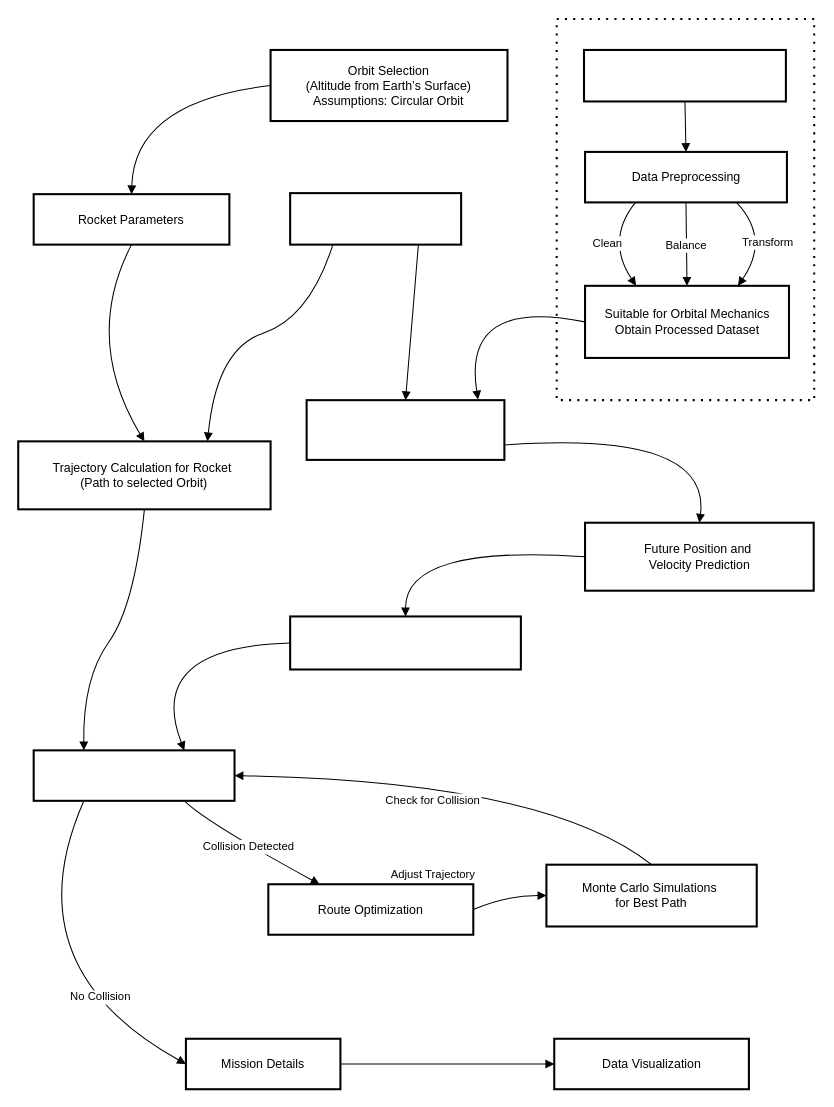
This 834x1107 diagram has some shape labels left out. The box of each missing label's shape, as (x1, y1, x2, y2) in pixels:
Calculation of Orbital Dynamics: (305, 399, 505, 460)
Collision Detection: (32, 749, 235, 801)
Position (x,y,z) Co ordinates extraction: (289, 615, 521, 670)
Timestamp: (289, 192, 462, 245)
TLEs Dataset from space-track.org: (582, 48, 786, 102)
